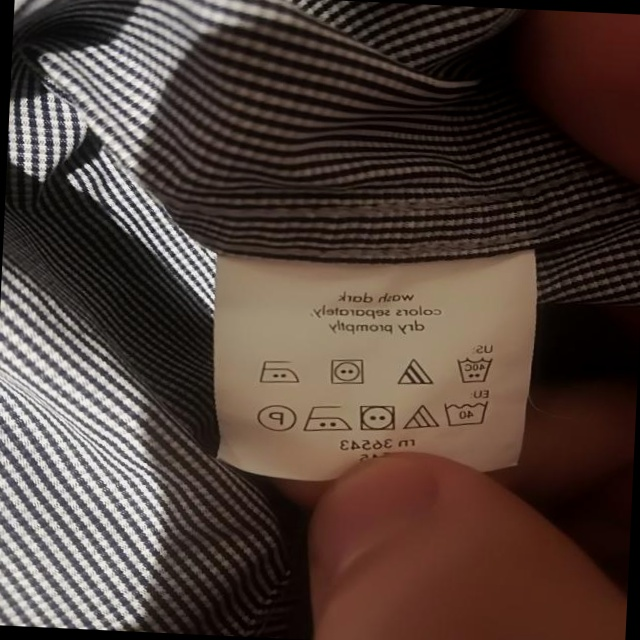40C: (436, 397, 493, 431), (449, 354, 492, 385)
dry_clean_any_solvent_except_trichloroethylene: (256, 401, 296, 434)
iron_medium: (301, 400, 350, 434), (256, 354, 303, 388)
non_chlorine_bleach: (393, 358, 434, 388), (402, 404, 441, 434)
tumble_dry_medium: (356, 401, 399, 435), (324, 356, 369, 387)
